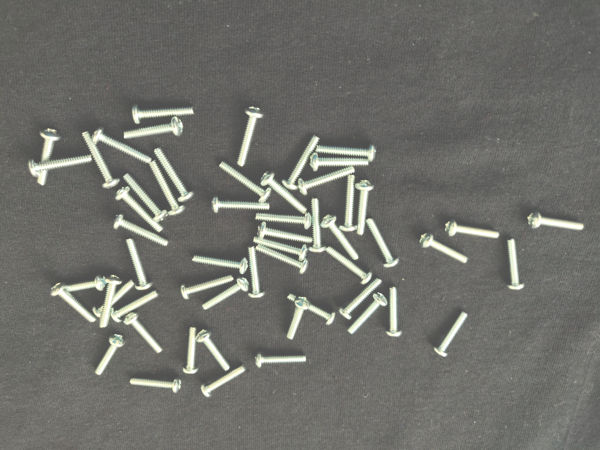longscrew: (91, 123, 153, 164), (153, 146, 196, 203), (114, 185, 165, 233), (122, 172, 169, 224), (81, 130, 121, 190), (219, 160, 273, 204), (281, 134, 321, 191), (148, 159, 187, 217), (260, 170, 309, 215), (338, 277, 383, 321), (50, 281, 97, 323), (326, 245, 373, 286), (114, 212, 169, 247), (321, 213, 360, 262), (93, 277, 138, 319), (366, 217, 401, 269), (347, 291, 388, 335), (418, 231, 469, 266), (433, 310, 470, 358), (298, 166, 357, 196), (285, 292, 337, 326), (123, 311, 164, 354), (255, 244, 310, 276), (26, 152, 93, 178), (202, 275, 250, 311), (236, 106, 264, 167), (111, 290, 160, 323), (123, 115, 184, 141), (201, 364, 247, 398), (36, 127, 62, 187), (196, 329, 231, 372), (131, 102, 196, 125), (126, 237, 153, 292), (181, 274, 235, 301), (253, 236, 309, 262), (95, 334, 127, 377), (99, 274, 124, 329), (257, 221, 314, 245), (527, 209, 586, 232), (314, 143, 378, 163), (192, 254, 250, 276), (444, 218, 501, 240), (504, 236, 526, 292), (354, 178, 375, 236), (211, 195, 271, 215), (285, 296, 312, 340), (309, 153, 370, 172), (339, 174, 358, 233), (308, 197, 328, 253), (255, 211, 312, 230), (247, 245, 266, 299), (255, 350, 308, 369), (130, 376, 182, 395), (182, 325, 201, 376), (386, 286, 403, 339), (61, 274, 107, 293)
